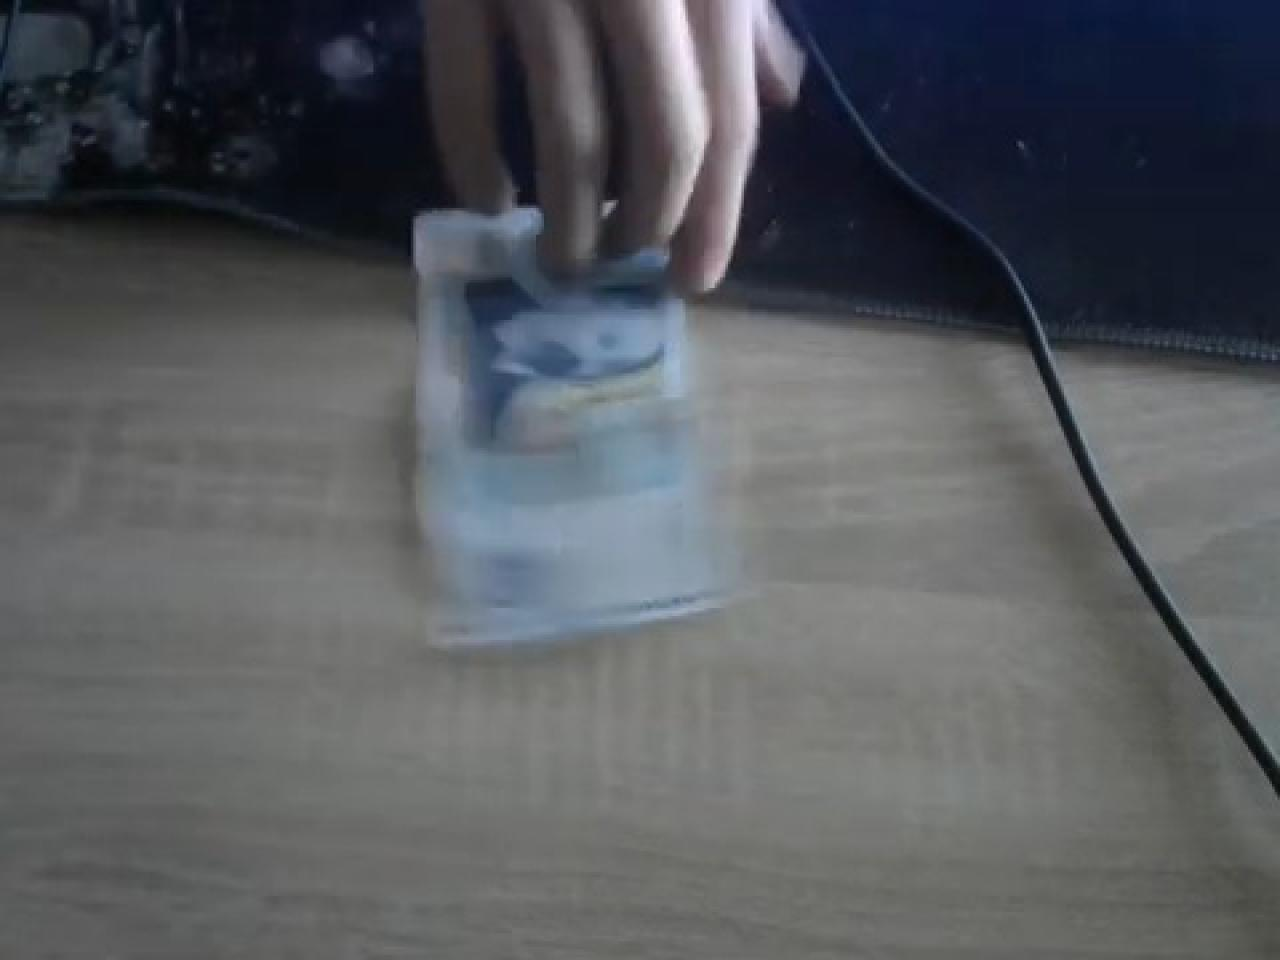20leva: (405, 198, 747, 655)
